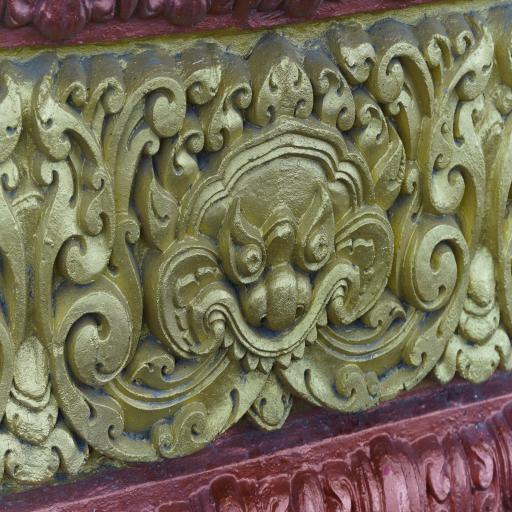la: (28, 74, 121, 296), (423, 39, 508, 236), (48, 280, 134, 438), (399, 213, 471, 366), (151, 392, 226, 467), (248, 49, 312, 132), (126, 63, 184, 143), (206, 75, 254, 149), (180, 44, 230, 105), (315, 55, 355, 129)
than: (140, 127, 402, 395)
